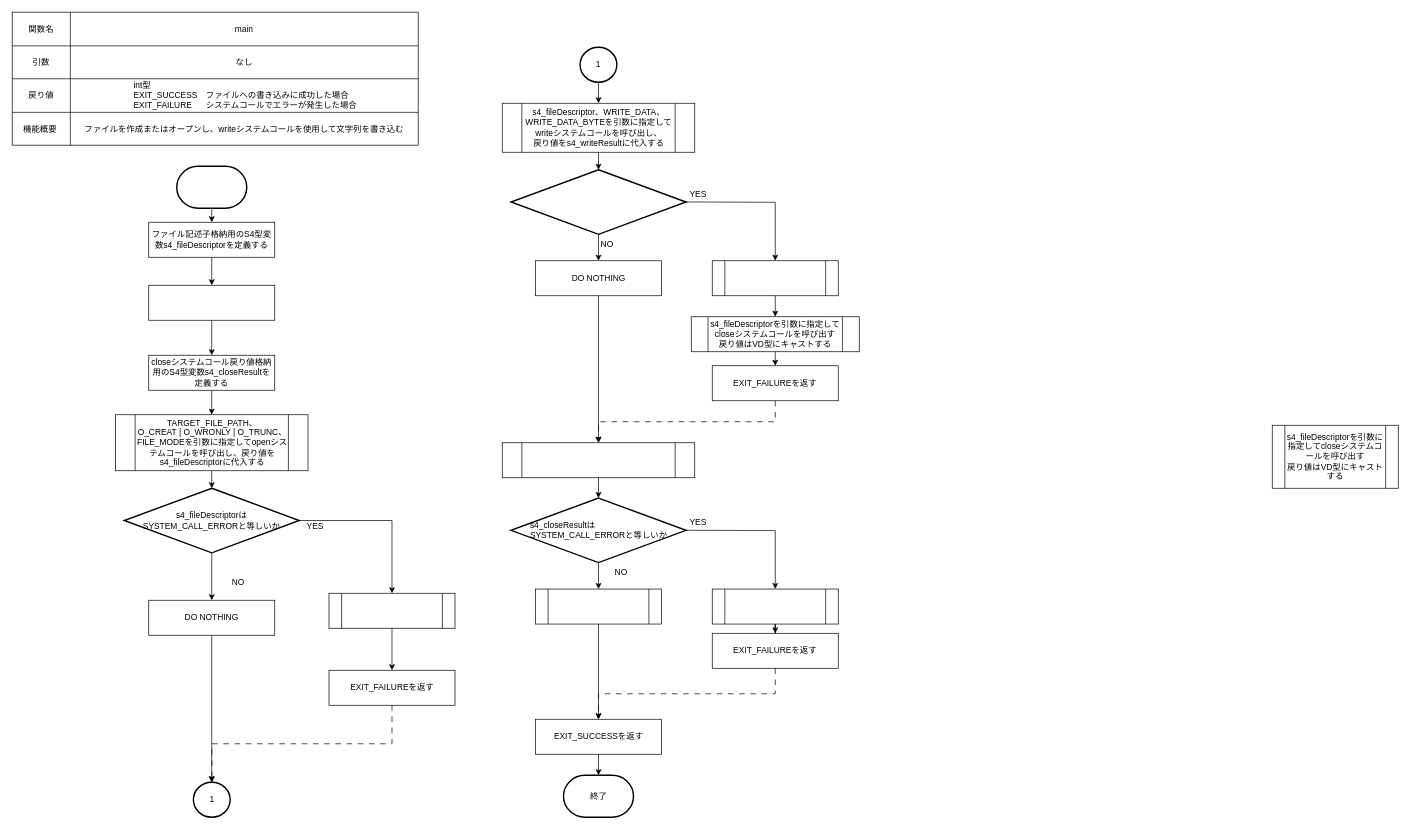
The diagram is 1411 pixels wide and 830 high, and some of its shapes have lost their labels. Here are the shapes that lost their labels. From the top down, the centre of each, then its label:
the point at 211,187: 開始
the point at 598,202: s4_writeResult は SYSTEM_CALL_ERROR と等しいか
the point at 775,278: "write"を引数に指定して perror関数を呼び出す
the point at 211,302: writeシステムコール戻り値格納用のS4型変数s4_writeResultを定義する
the point at 598,460: s4_fileDescriptorを引数に指定して closeシステムコールを呼び出し、 戻り値をs4_closeResultに代入する
the point at 391,610: "open"を引数に指定して perror関数を呼び出す
the point at 598,606: printf("文字列を書き込みました。\n");
the point at 775,606: "close"を引数に指定して perror関数を呼び出す
